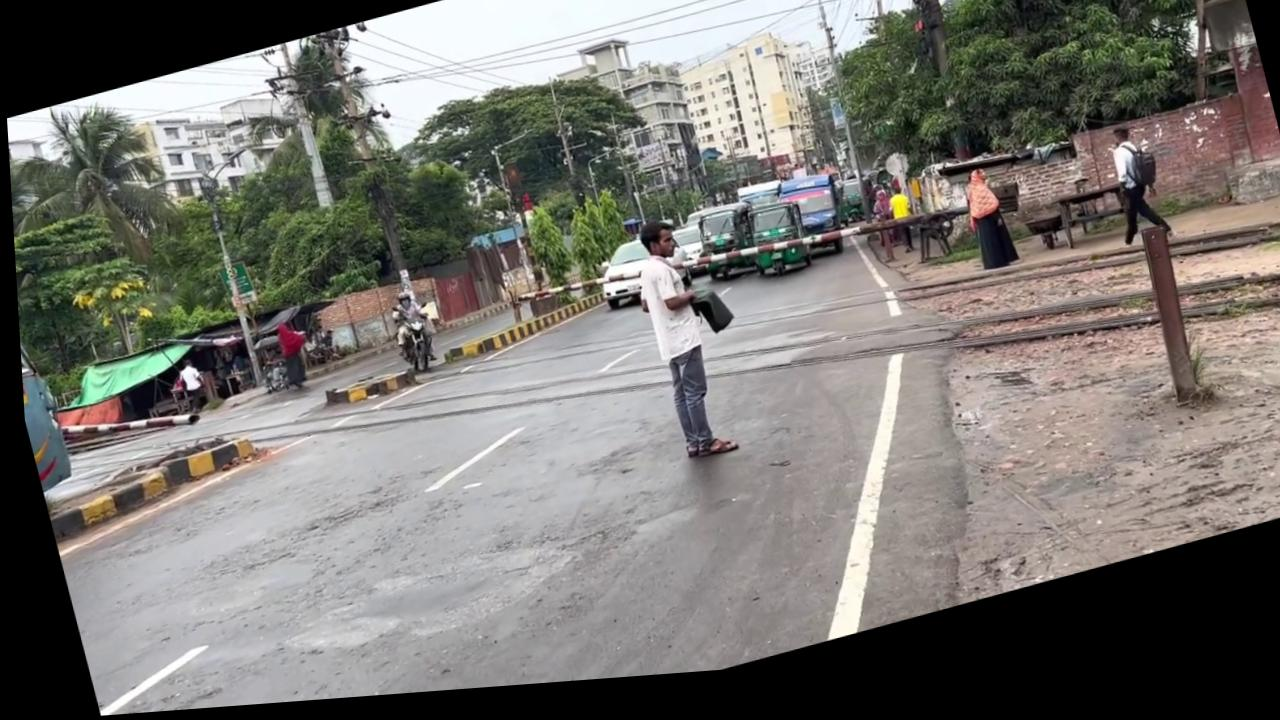Car: (431, 296, 606, 372)
Curb: (381, 304, 438, 383)
Fence: (616, 221, 734, 477), (1091, 135, 1171, 269), (951, 176, 1016, 288), (265, 319, 313, 395), (861, 199, 901, 278), (881, 197, 917, 268), (170, 357, 205, 417)
Garbage: (742, 0, 876, 254), (867, 0, 1015, 186), (320, 30, 414, 315), (1128, 238, 1201, 423), (203, 204, 259, 392), (273, 43, 332, 217), (52, 391, 196, 459)
Motorcycle: (44, 141, 1280, 632)
Railroad-crossing: (552, 192, 635, 301), (514, 205, 573, 303)
Rickshaw: (14, 289, 71, 492)
